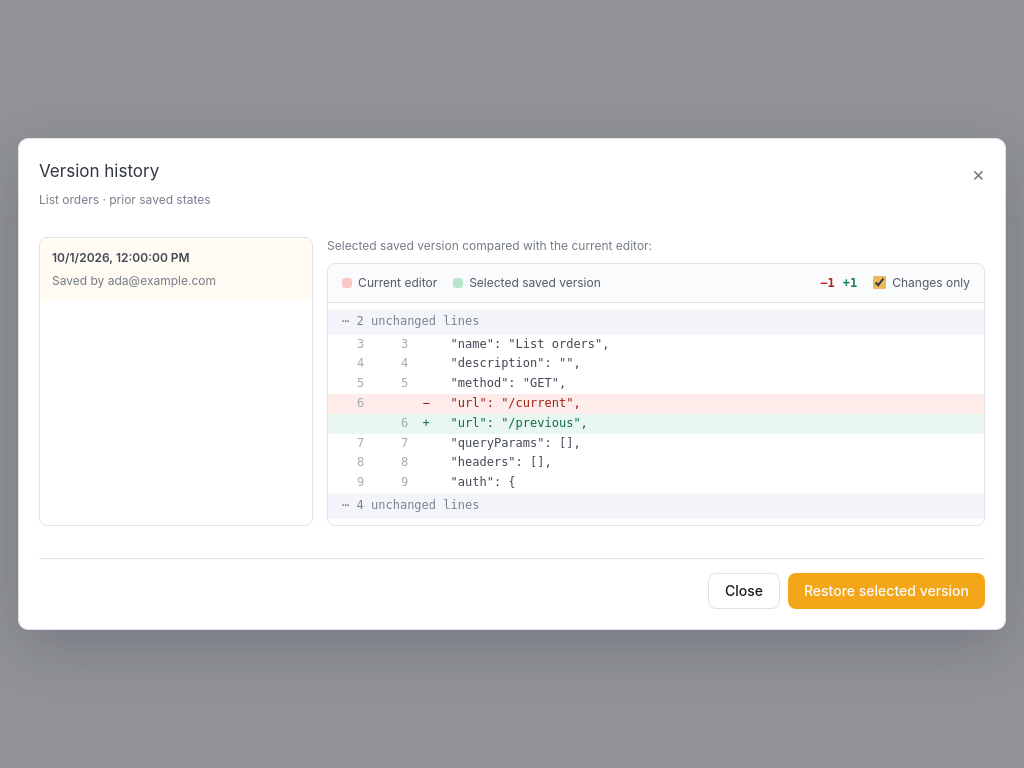
Test case: resource version history › previews a selected snapshot, warns about unsaved edits, restores and refreshes history
Expected: the text "Saved by ada@example.com" is shown, top-left (52, 272), bottom-right (216, 290)
Expected: the table named "changes between current editor" shows "/previous", top-left (436, 416), bottom-right (588, 430)
Click the button "Restore selected version" at (886, 591), box top-left (788, 573), bottom-right (985, 609)
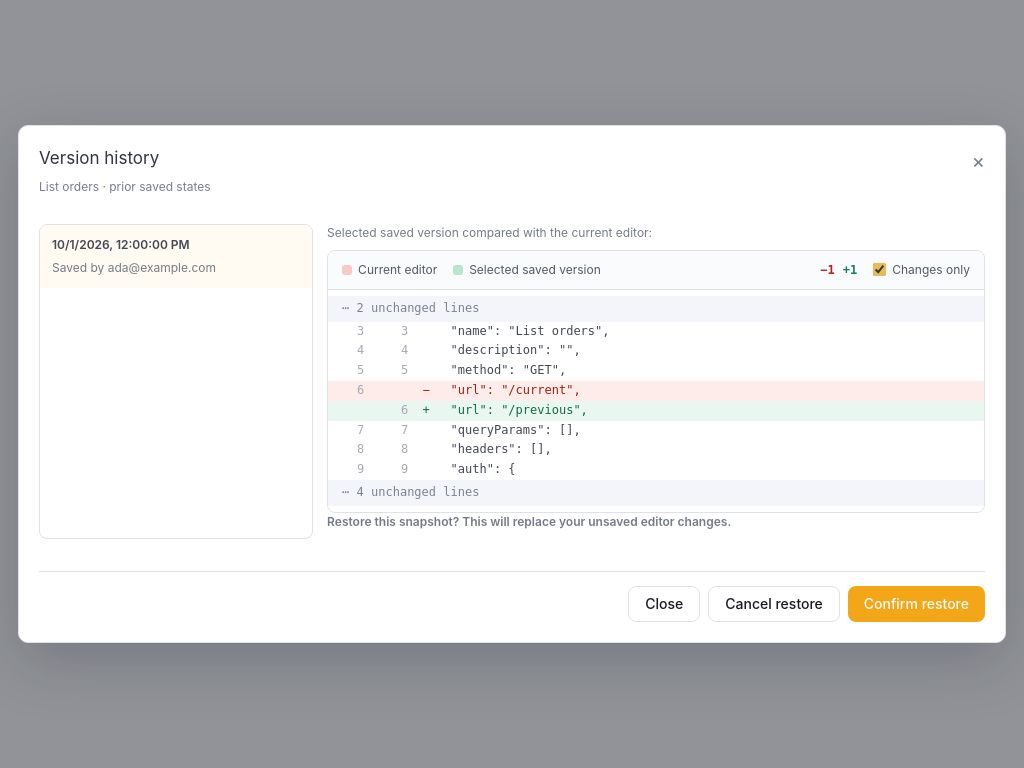
Now the message shows "replace your unsaved editor changes", box top-left (459, 514), bottom-right (731, 529)
Click the button "Confirm restore" at (916, 604), box top-left (848, 586), bottom-right (985, 622)
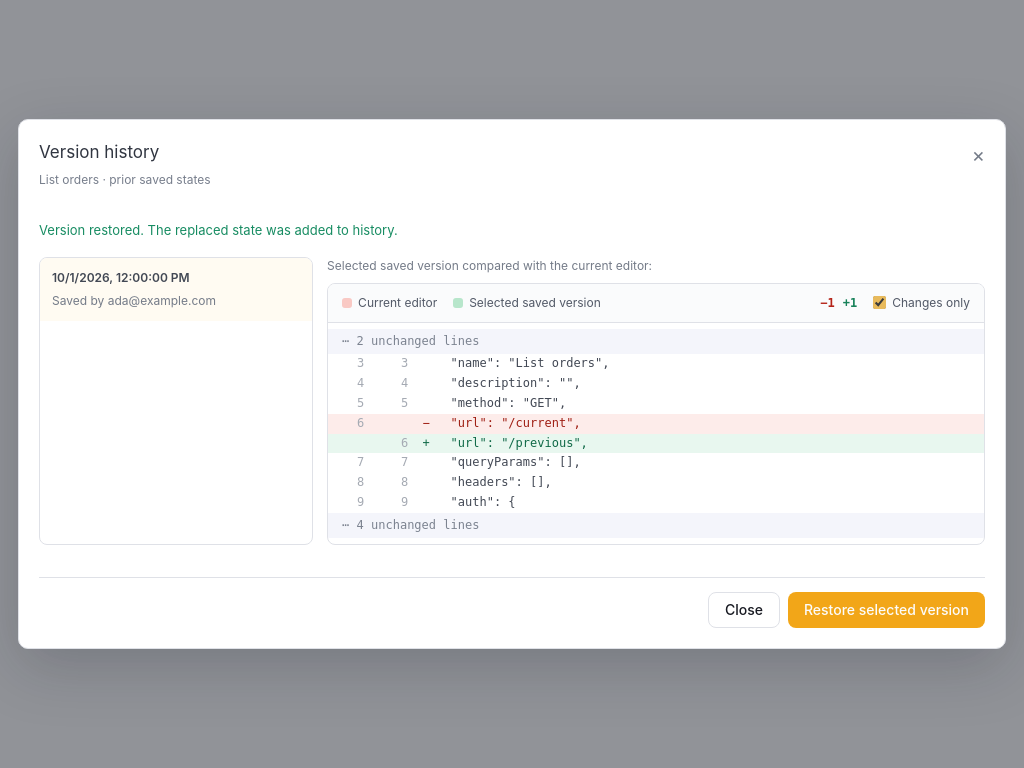
Now the message shows "Version restored", box top-left (39, 222), bottom-right (398, 238)
